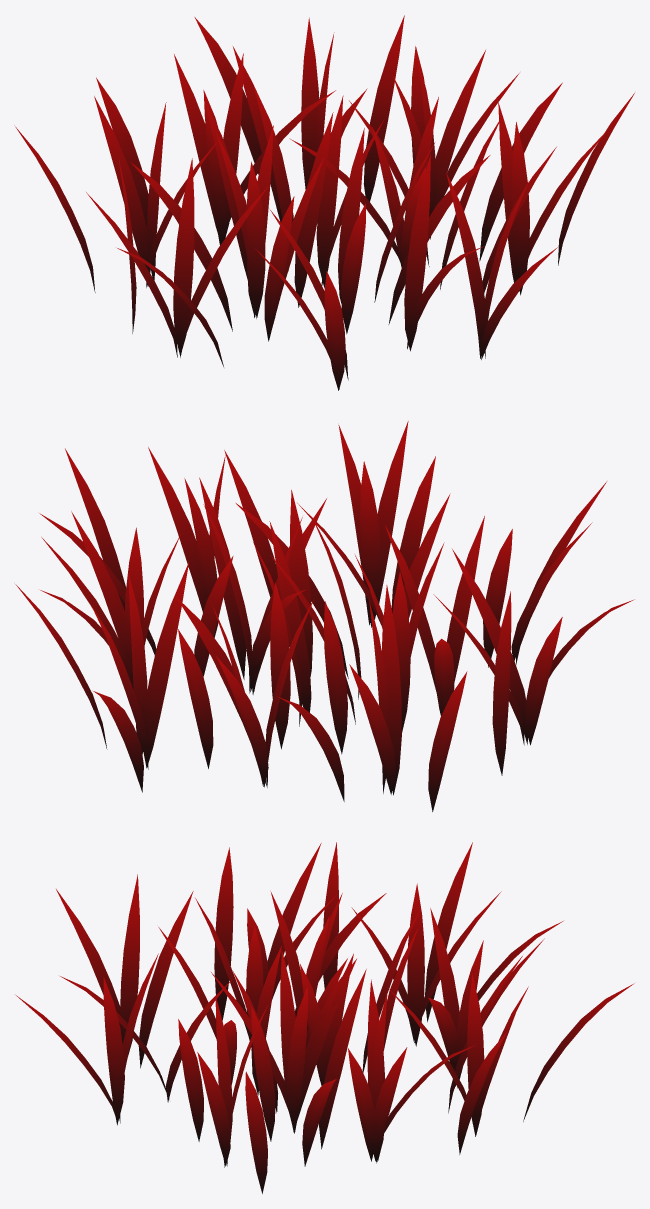
Rendered from Grass.fbx.
3 renders of one model, top to bottom at view 1: azimuth 30°, elevation 25°; view 2: azimuth 150°, elevation 25°; view 3: azimuth 270°, elevation 25°, orthographic. The views are drawn at different scales.
Visible parts, largest first — view 1: Object003; view 2: Object003; view 3: Object003.
Part boxes in pixels (x1,y1,x2,y2): Object003: [14, 15, 634, 390]; Object003: [15, 421, 634, 811]; Object003: [16, 842, 634, 1193].
Bounding box in the file's own units: 20.61 × 6.72 × 22.32.
